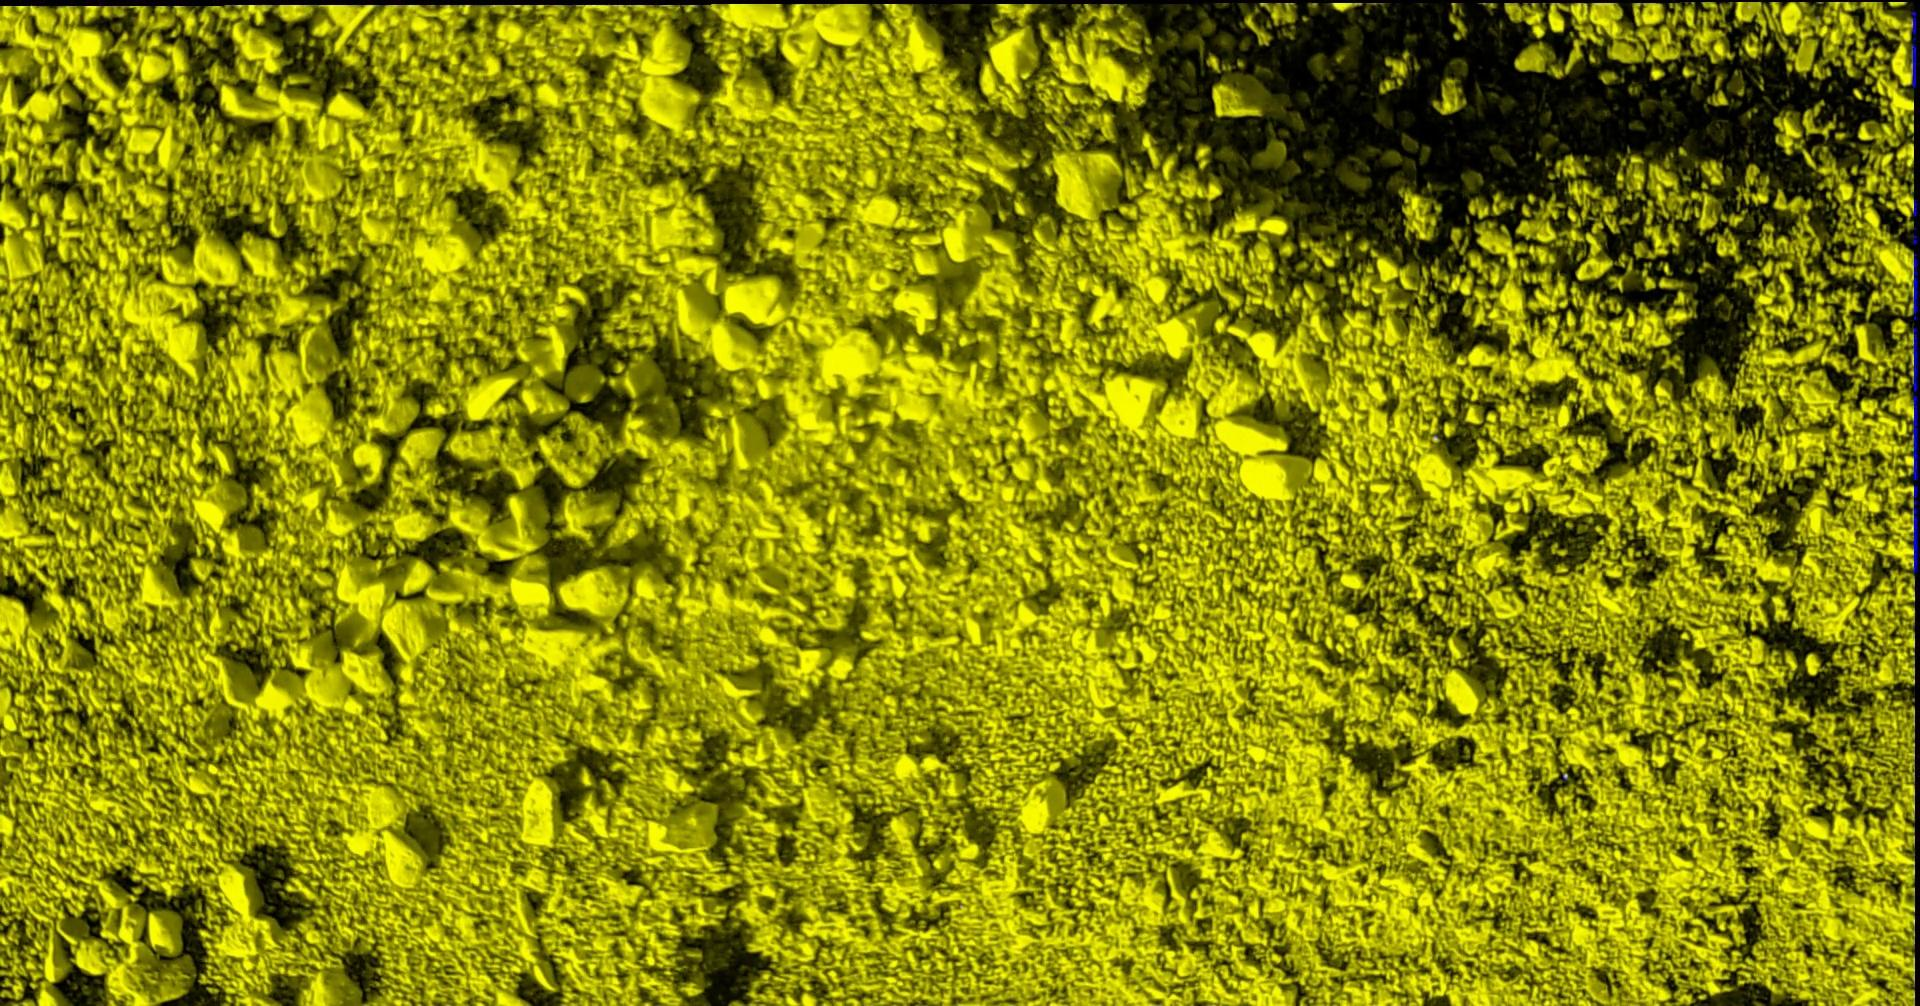ant: (1910, 10, 1916, 86), (1912, 251, 1919, 320)
